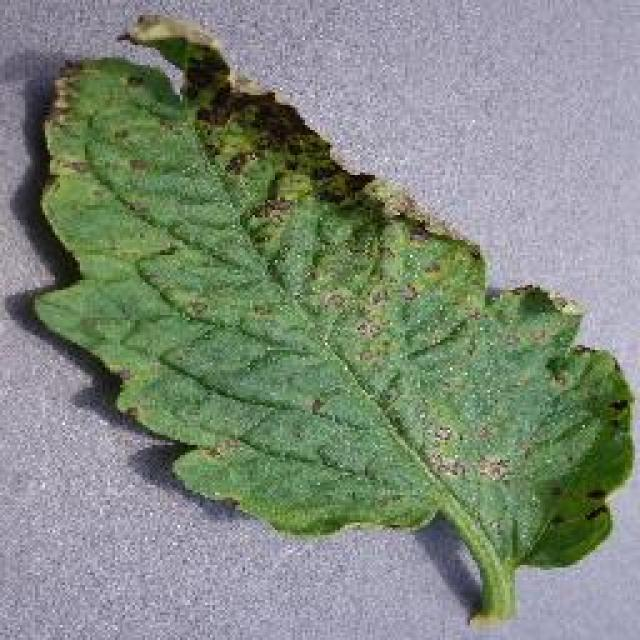Tomato Septoria spot leaf: (24, 16, 635, 568)
